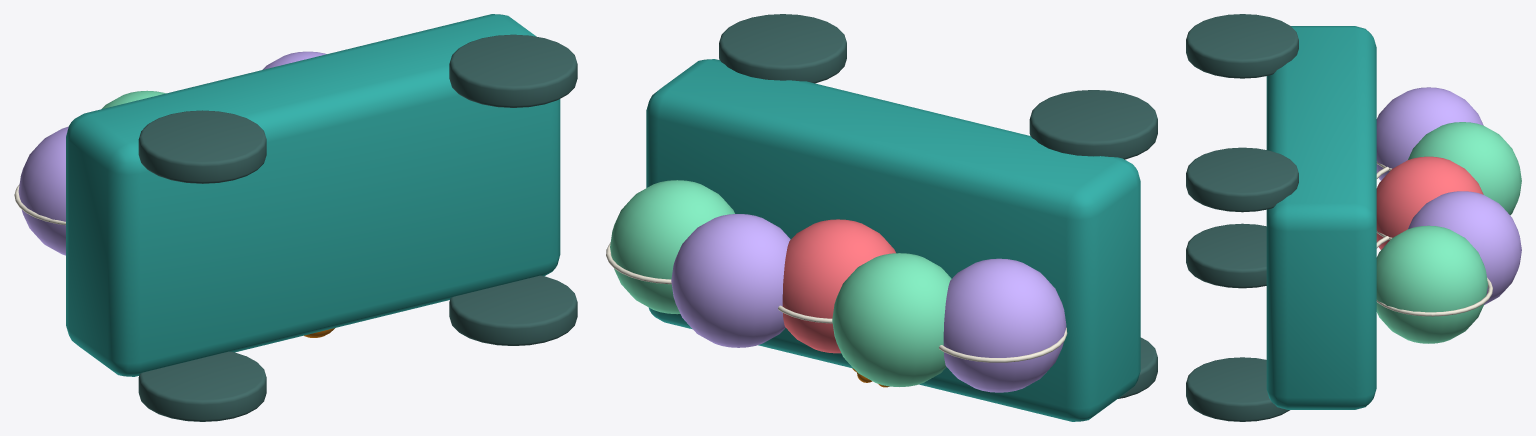
Rendered from BoulevardLandmark1.fbx.
The picture shows the model from 3 angles, left to right: view 1: azimuth 30°, elevation 25°; view 2: azimuth 150°, elevation 25°; view 3: azimuth 270°, elevation 25°; orthographic projection. The views are drawn at different scales.
Parts seen in each view (by area): view 1: BoulevardLandmark1; view 2: BoulevardLandmark1; view 3: BoulevardLandmark1.
Part boxes in pixels (<box>): BoulevardLandmark1: <box>14,14,577,421</box>; BoulevardLandmark1: <box>606,14,1157,421</box>; BoulevardLandmark1: <box>1186,14,1521,421</box>.
Bounding box in the file's own units: 1.63 × 0.94 × 1.19.
